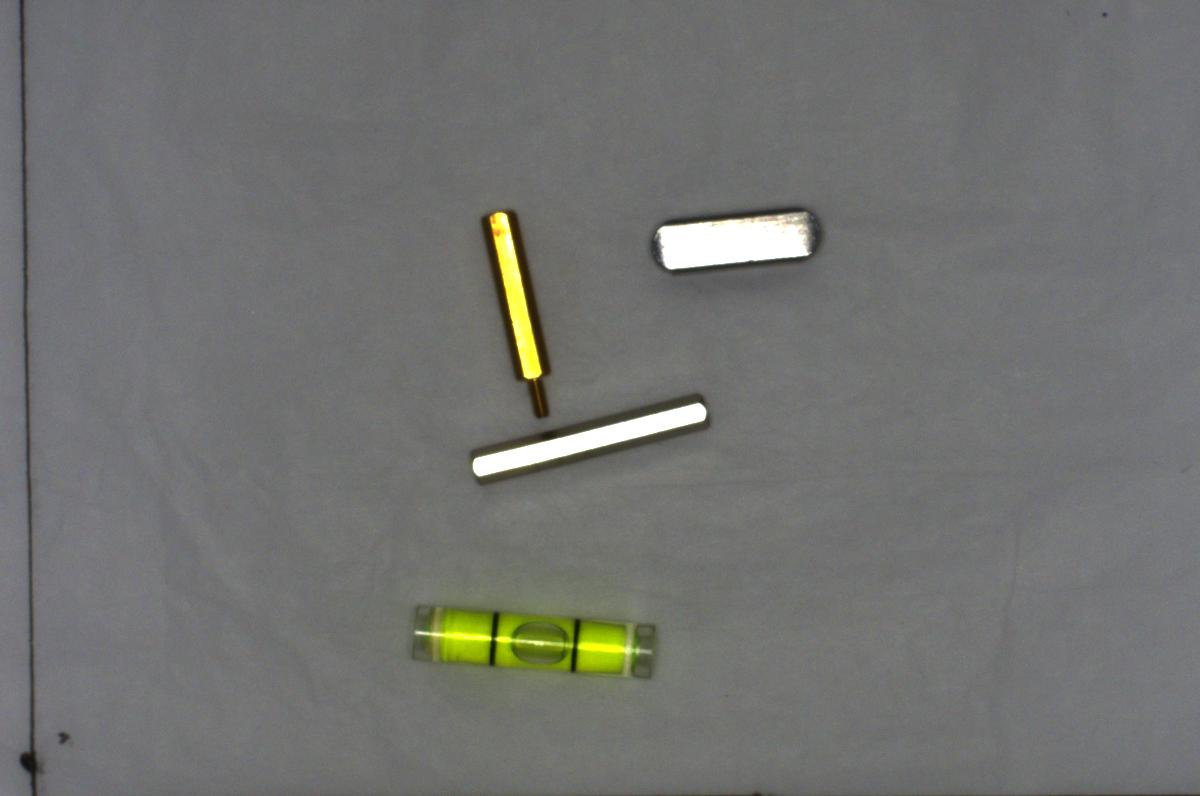Double hexagonal column: (465, 394, 711, 483)
Hexagon pillar: (480, 208, 553, 425)
Horizontal bubble: (406, 600, 665, 688)
Keybar: (650, 206, 831, 276)
